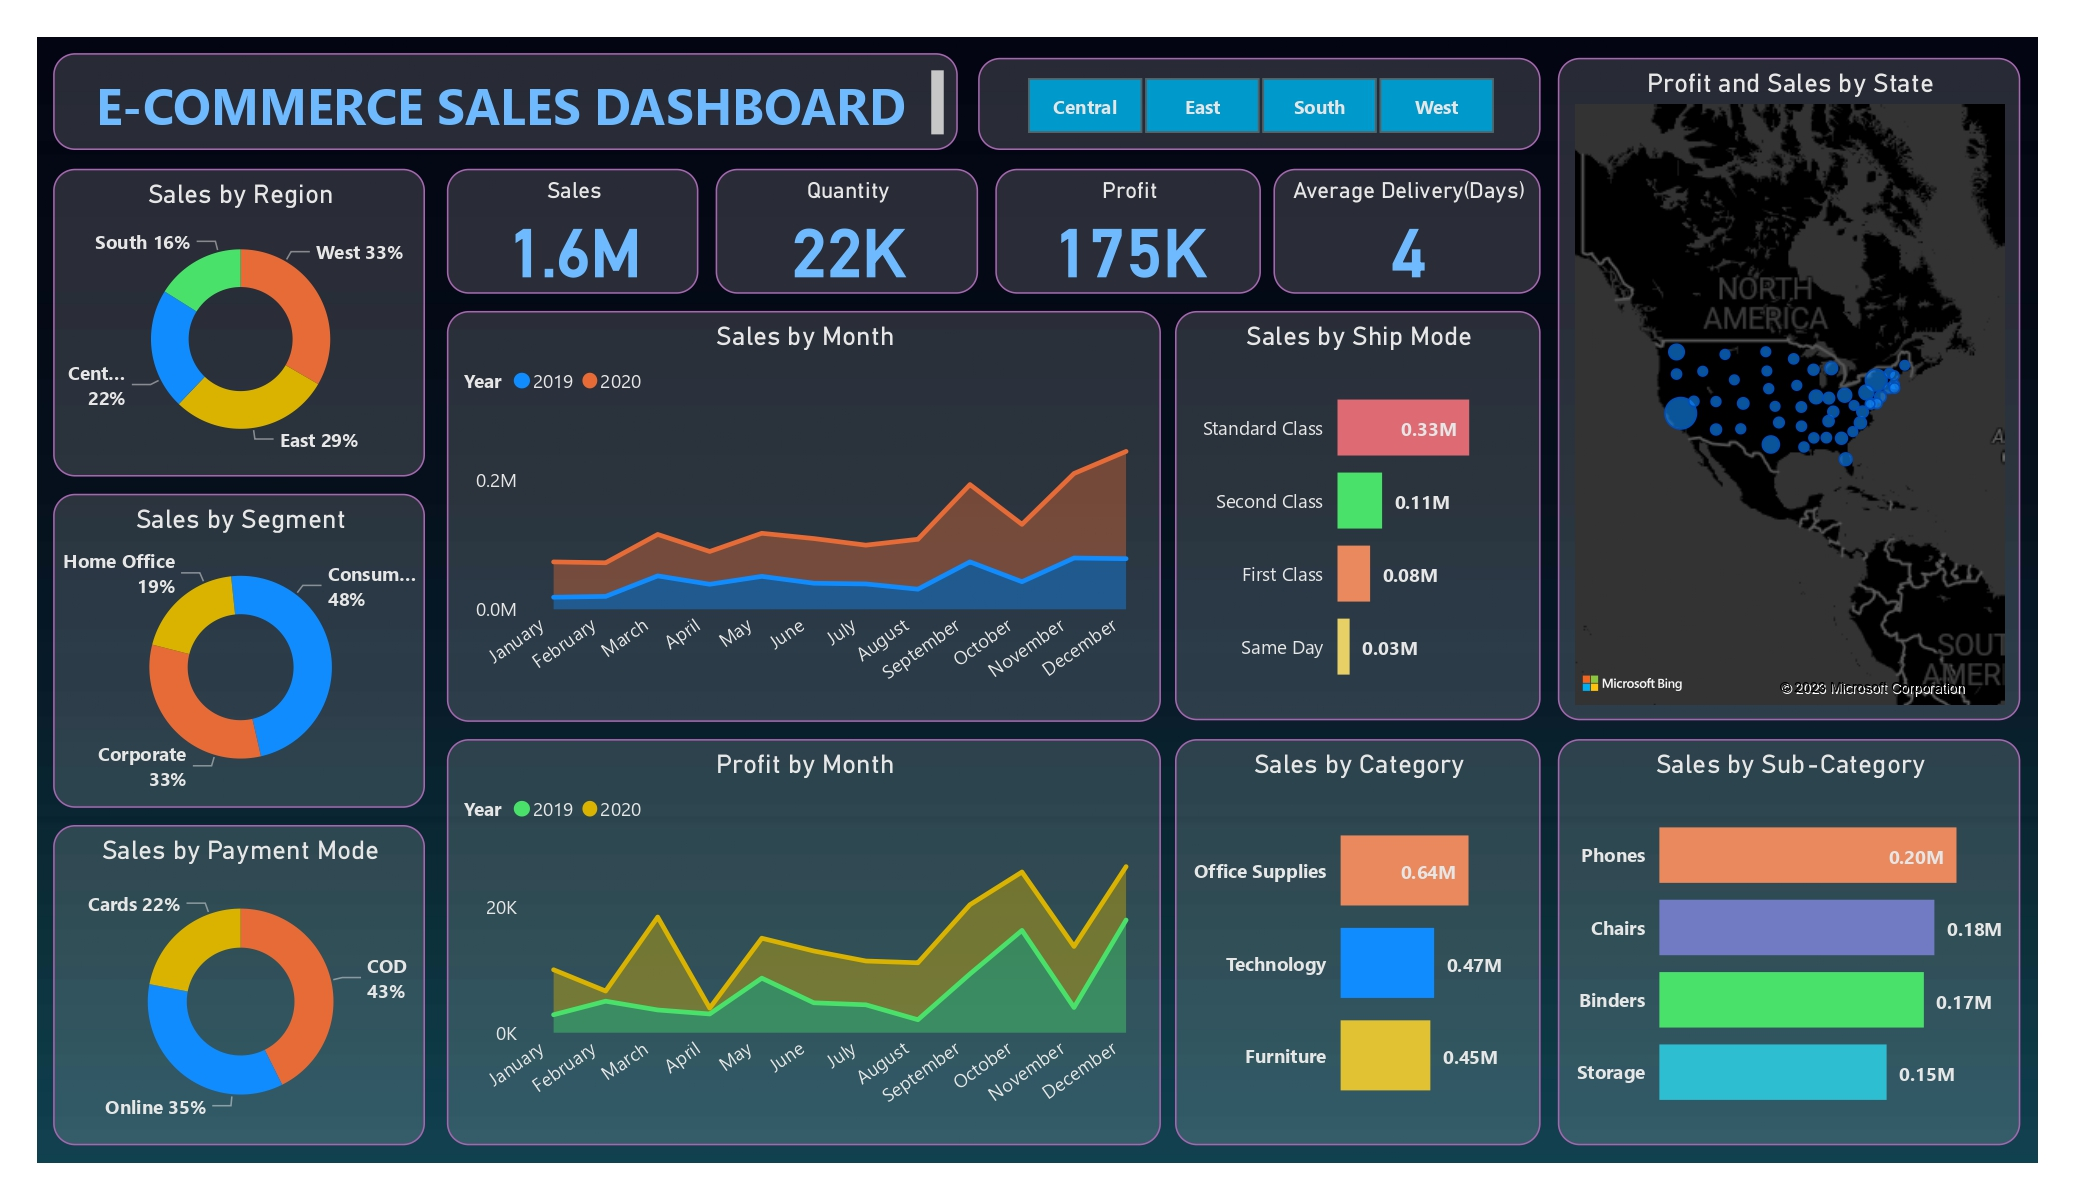

What the dashboard file says about the page in this screenshot:
{"tool":"powerbi","page":{"name":"Page 1","canvas":[1280,720],"ordinal":0},"visuals":[{"type":"clusteredBarChart","title":"Sales by Category","fields":{"Category":["SuperStore_Sales_Dataset.Category"],"Y":["Sum(SuperStore_Sales_Dataset.Sales)"]},"box":[728.4,448.6,234,260.5],"z":0},{"type":"clusteredBarChart","title":"Sales by Sub-Category","fields":{"Category":["SuperStore_Sales_Dataset.Sub-Category"],"Y":["Sum(SuperStore_Sales_Dataset.Sales)"]},"box":[973.3,448.6,295.5,260.5],"z":1000},{"type":"clusteredBarChart","title":"Sales by Ship Mode","fields":{"Category":["SuperStore_Sales_Dataset.Ship Mode"],"Y":["Sum(SuperStore_Sales_Dataset.Sales)"]},"box":[728.4,174.9,234,261.7],"z":2000},{"type":"stackedAreaChart","title":"Sales by Month","fields":{"Category":["SuperStore_Sales_Dataset.Order Date.Variation.Date Hierarchy.Month"],"Y":["Sum(SuperStore_Sales_Dataset.Sales)"],"Series":["SuperStore_Sales_Dataset.Order Date.Variation.Date Hierarchy.Year"]},"box":[261.7,174.9,457.1,262.9],"z":3000},{"type":"stackedAreaChart","title":"Profit by Month","fields":{"Category":["SuperStore_Sales_Dataset.Order Date.Variation.Date Hierarchy.Month"],"Y":["Sum(SuperStore_Sales_Dataset.Profit)"],"Series":["SuperStore_Sales_Dataset.Order Date.Variation.Date Hierarchy.Year1"]},"box":[261.7,448.6,457.1,260.5],"z":4000},{"type":"map","title":"Profit and Sales by State","fields":{"Category":["SuperStore_Sales_Dataset.State"],"Size":["Sum(SuperStore_Sales_Dataset.Sales)"]},"box":[973.3,13.3,295.5,423.3],"z":5000},{"type":"donutChart","title":"Sales by Segment","fields":{"Category":["SuperStore_Sales_Dataset.Segment"],"Y":["Sum(SuperStore_Sales_Dataset.Sales)"]},"box":[9.6,291.9,238.8,201.4],"z":6000},{"type":"donutChart","title":"Sales by Payment Mode","fields":{"Category":["SuperStore_Sales_Dataset.Payment Mode"],"Y":["Sum(SuperStore_Sales_Dataset.Sales)"]},"box":[9.6,504.1,238.8,205],"z":7000},{"type":"donutChart","title":"Sales by Region","fields":{"Category":["SuperStore_Sales_Dataset.Region"],"Y":["Sum(SuperStore_Sales_Dataset.Sales)"]},"box":[9.6,84.4,238.8,196.6],"z":8000},{"type":"slicer","fields":{"Values":["SuperStore_Sales_Dataset.Region"]},"box":[601.8,13.3,360.6,59.1],"z":9000},{"type":"textbox","box":[9.6,9.6,578.9,62.7],"z":10000},{"type":"card","title":"Sales","fields":{"Values":["Sum(SuperStore_Sales_Dataset.Sales)"]},"box":[261.7,84.4,161.6,79.6],"z":11000},{"type":"card","title":"Quantity","fields":{"Values":["Sum(SuperStore_Sales_Dataset.Quantity)"]},"box":[434.2,84.4,167.6,79.6],"z":12000},{"type":"card","title":"Profit","fields":{"Values":["Sum(SuperStore_Sales_Dataset.Profit)"]},"box":[612.7,84.4,170.1,79.6],"z":13000},{"type":"card","title":"Average Delivery(Days)","fields":{"Values":["Avg(SuperStore_Sales_Dataset.AvgDeliveryTime)"]},"box":[791.2,84.4,171.3,79.6],"z":14000}]}

Visuals, with their boxes in screenshot pixels (x1, y1, x2, y2):
"Sales by Category" clusteredBarChart: 1176, 738, 1541, 1145
"Sales by Sub-Category" clusteredBarChart: 1558, 738, 2020, 1145
"Sales by Ship Mode" clusteredBarChart: 1176, 311, 1541, 720
"Sales by Month" stackedAreaChart: 446, 311, 1161, 722
"Profit by Month" stackedAreaChart: 446, 738, 1161, 1145
"Profit and Sales by State" map: 1558, 58, 2020, 720
"Sales by Segment" donutChart: 52, 494, 426, 808
"Sales by Payment Mode" donutChart: 52, 825, 426, 1145
"Sales by Region" donutChart: 52, 169, 426, 477
slicer - SuperStore_Sales_Dataset.Region: 978, 58, 1541, 151
textbox: 52, 52, 957, 150
"Sales" card: 446, 169, 699, 294
"Quantity" card: 716, 169, 978, 294
"Profit" card: 995, 169, 1261, 294
"Average Delivery(Days)" card: 1274, 169, 1541, 294
